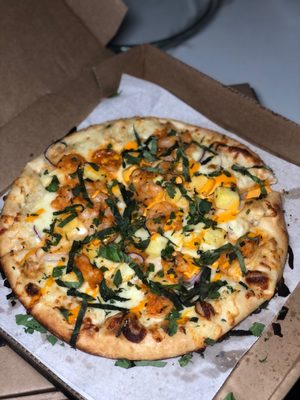sandwich: (0, 116, 290, 361)
